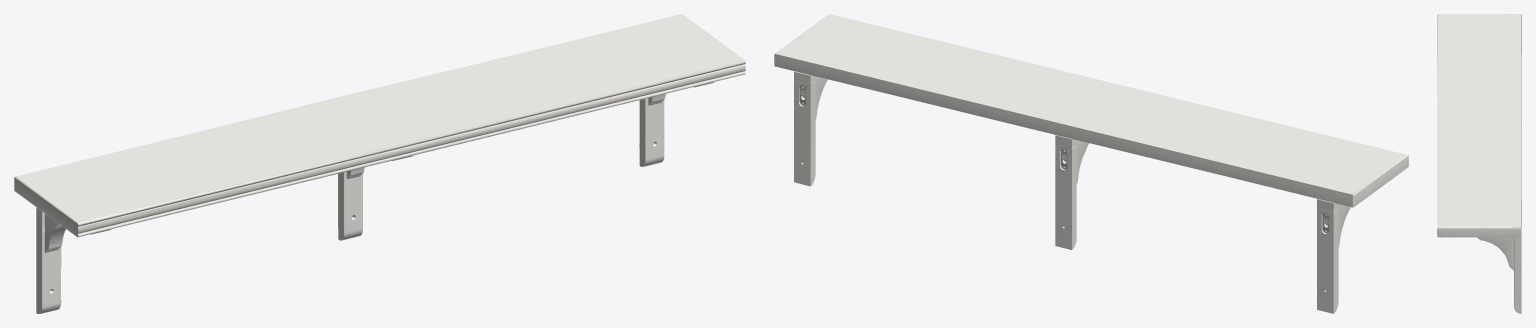
File: 99325477-mini.glb
The picture shows the model from 3 angles, left to right: view 1: azimuth 30°, elevation 25°; view 2: azimuth 150°, elevation 25°; view 3: azimuth 270°, elevation 25°; orthographic projection. The views are drawn at different scales.
Visible parts, largest first — view 1: 50421239-BERGSHULT001; view 2: 50421239-BERGSHULT001; view 3: 50421239-BERGSHULT001.
Boxes of the visible parts, left/top/right/bottom form: 50421239-BERGSHULT001: left=14, top=14, right=745, bottom=313; 50421239-BERGSHULT001: left=774, top=14, right=1408, bottom=313; 50421239-BERGSHULT001: left=1437, top=14, right=1521, bottom=313.
Bounding box in the file's own units: 1.2 × 0.245 × 0.2.
Materials: 1 (1 with a texture image).
